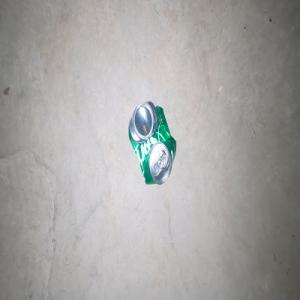SodaCan: (128, 100, 176, 185)
